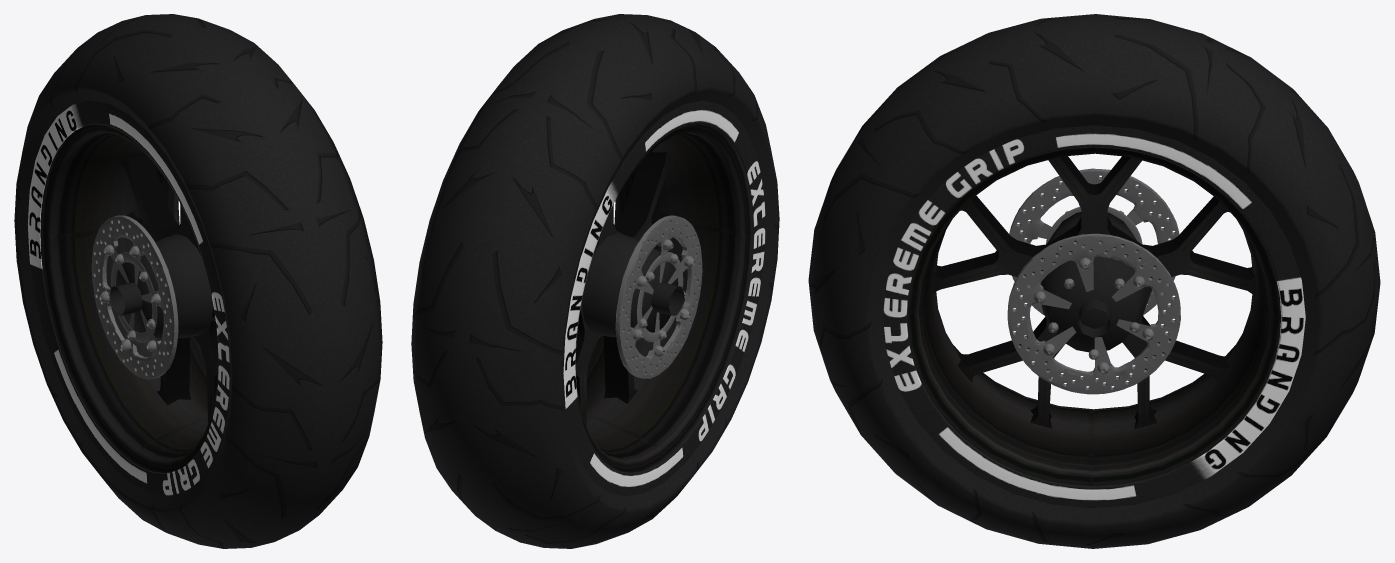
File: rearWheelEdited.fbx
3 views of the same model, side by side, from view 1: azimuth 30°, elevation 25°; view 2: azimuth 150°, elevation 25°; view 3: azimuth 270°, elevation 25° (orthographic). The views are drawn at different scales.
Visible parts, largest first — view 1: RearWheel; view 2: RearWheel; view 3: RearWheel.
Boxes of the visible parts, box(x1,y1,x2,y2) form: RearWheel: box(14, 14, 382, 548); RearWheel: box(411, 14, 779, 548); RearWheel: box(808, 14, 1380, 548).
Size of the model in its own units: 39.11 by 114 by 114.
